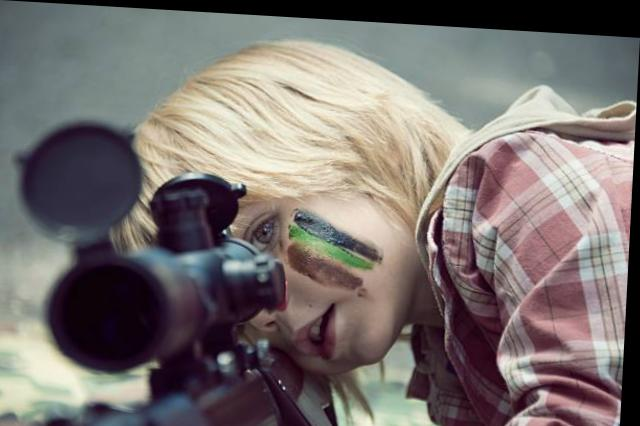other: (115, 51, 635, 424)
